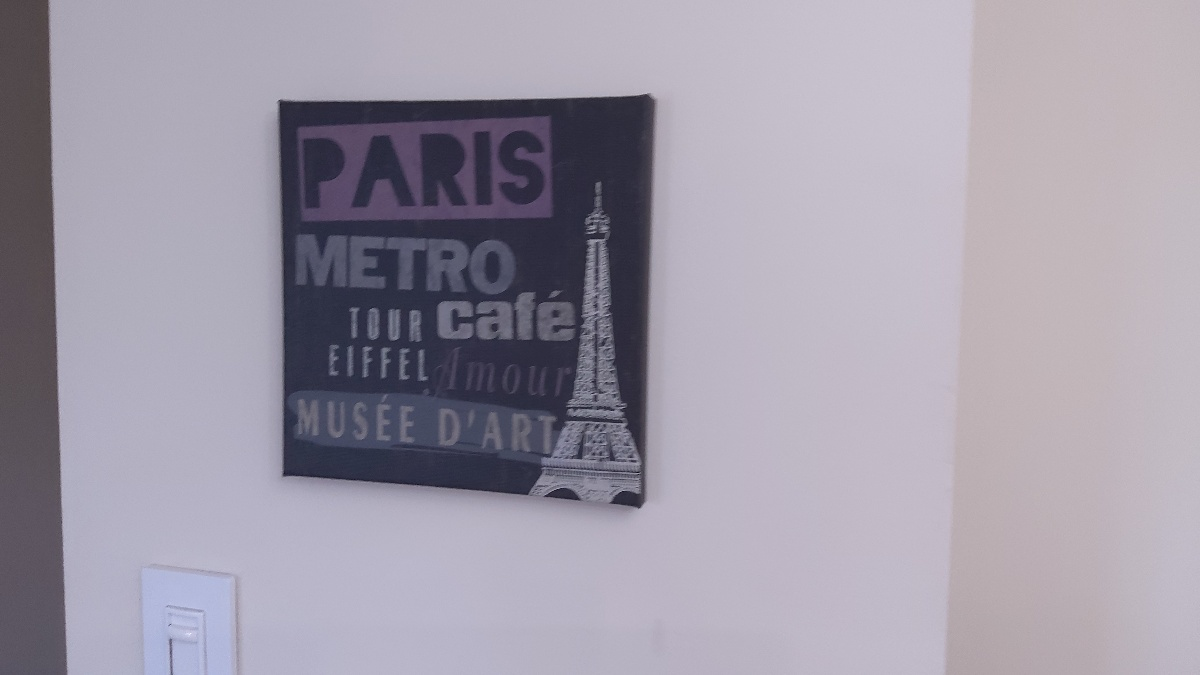poster: (271, 92, 653, 512)
